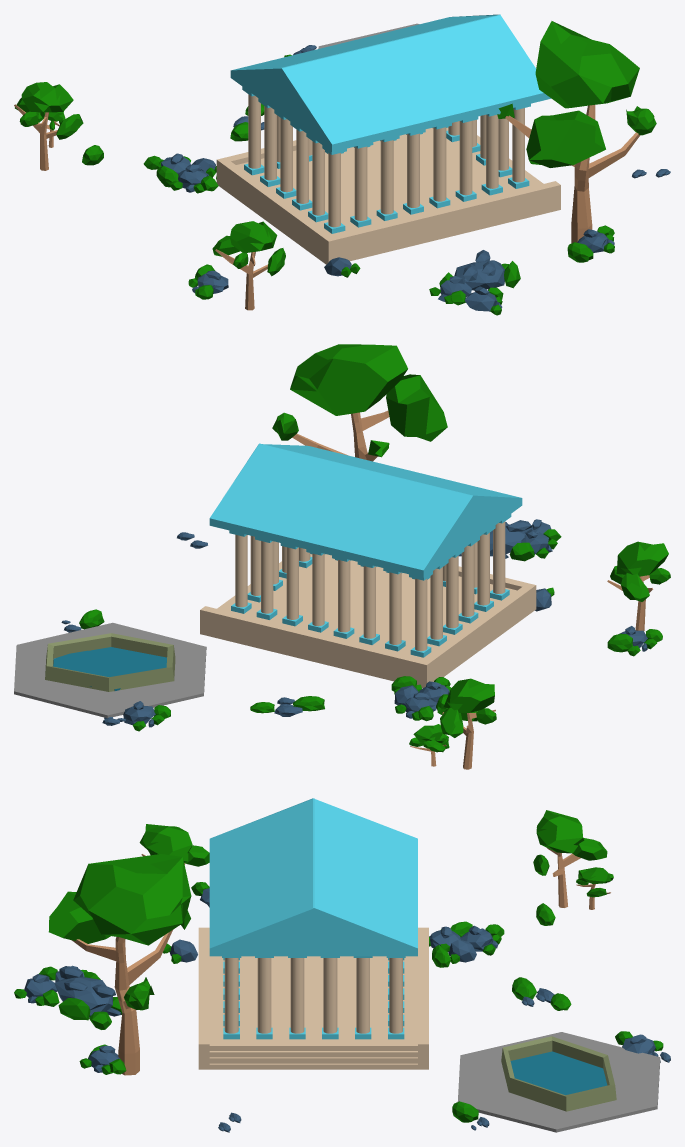
File: Temple diamand.fbx
3 views of the same model, one above another, from view 1: azimuth 30°, elevation 25°; view 2: azimuth 150°, elevation 25°; view 3: azimuth 270°, elevation 25° (orthographic). The views are drawn at different scales.
Visible parts, largest first — view 1: Cube.063, Icokugel.011, Icokugel.012, Icokugel.028, Icokugel.010, Icokugel.005, Zylinder, Icokugel.024, Icokugel.007, Icokugel.023, Icokugel, Icokugel.003 (+1 smaller); view 2: Cube.063, Cylindre.003, Icokugel.011, Cylindre.004, Icokugel.012, Icokugel.010, Icokugel.005, Icokugel.028, Cylindre.006, Zylinder, Cylindre.005, Icokugel.009 (+3 smaller); view 3: Cube.063, Cylindre.003, Icokugel.011, Icokugel.028, Cylindre.004, Zylinder, Icokugel.005, Icokugel.010, Icokugel.012, Cylindre.005, Cylindre.006, Icokugel.003 (+6 smaller).
Part boxes in pixels (x1=…): Cube.063: x1=216, y1=14, x2=560, y2=264; Icokugel.011: x1=535, y1=21, x2=639, y2=108; Icokugel.012: x1=526, y1=110, x2=605, y2=167; Icokugel.028: x1=429, y1=250, x2=520, y2=315; Icokugel.010: x1=212, y1=221, x2=285, y2=310; Icokugel.005: x1=14, y1=82, x2=83, y2=170; Zylinder: x1=505, y1=105, x2=639, y2=243; Icokugel.024: x1=170, y1=164, x2=218, y2=193; Icokugel.007: x1=188, y1=270, x2=228, y2=299; Icokugel.023: x1=577, y1=225, x2=614, y2=253; Icokugel: x1=626, y1=106, x2=656, y2=135; Icokugel.003: x1=143, y1=153, x2=190, y2=173; Cube.063: x1=200, y1=443, x2=536, y2=688; Cylindre.003: x1=14, y1=622, x2=206, y2=718; Icokugel.011: x1=290, y1=344, x2=407, y2=415; Cylindre.004: x1=45, y1=633, x2=175, y2=691; Icokugel.012: x1=386, y1=374, x2=447, y2=441; Icokugel.010: x1=607, y1=541, x2=670, y2=630; Icokugel.005: x1=440, y1=678, x2=496, y2=769; Icokugel.028: x1=458, y1=519, x2=561, y2=561; Cylindre.006: x1=53, y1=650, x2=124, y2=686; Zylinder: x1=292, y1=410, x2=389, y2=461; Cylindre.005: x1=89, y1=647, x2=166, y2=690; Icokugel.009: x1=123, y1=701, x2=170, y2=731; Cube.063: x1=198, y1=798, x2=428, y2=1069; Cylindre.003: x1=457, y1=1032, x2=660, y2=1132; Icokugel.011: x1=73, y1=854, x2=191, y2=945; Icokugel.028: x1=14, y1=965, x2=122, y2=1029; Cylindre.004: x1=501, y1=1036, x2=616, y2=1111; Zylinder: x1=72, y1=930, x2=172, y2=1075; Icokugel.005: x1=533, y1=810, x2=607, y2=907; Icokugel.010: x1=139, y1=824, x2=209, y2=866; Icokugel.012: x1=48, y1=891, x2=110, y2=943; Cylindre.005: x1=510, y1=1051, x2=604, y2=1083; Cylindre.006: x1=532, y1=1068, x2=607, y2=1095; Icokugel.003: x1=460, y1=924, x2=504, y2=955.
Size of the model in its own units: 1267 by 513 by 1425.
